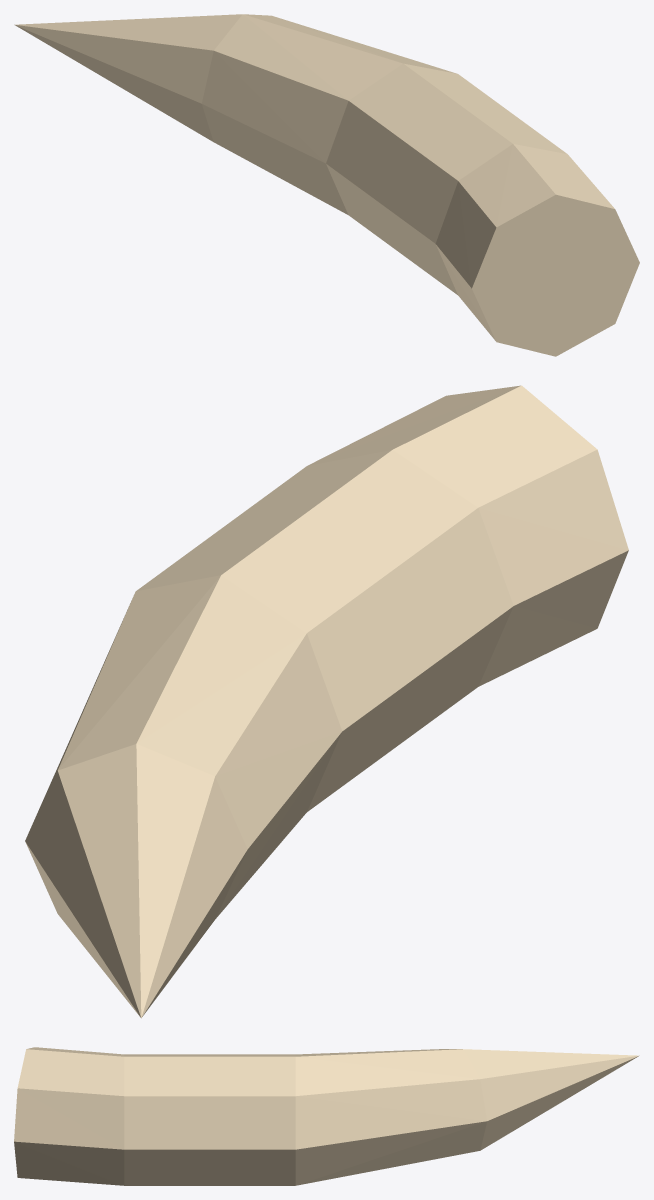
The model's file is SM_spike_ground_04.fbx.
3 renders of one model, top to bottom at view 1: azimuth 30°, elevation 25°; view 2: azimuth 150°, elevation 25°; view 3: azimuth 270°, elevation 25°, orthographic. The views are drawn at different scales.
Parts seen in each view (by area): view 1: spike_ground_04; view 2: spike_ground_04; view 3: spike_ground_04.
Boxes of the visible parts, x1,y1,x2,y2 form: spike_ground_04: (14,14,639,356); spike_ground_04: (25,385,628,1018); spike_ground_04: (14,1047,639,1185).
Bounding box in the file's own units: 47.16 × 29.63 × 133.
